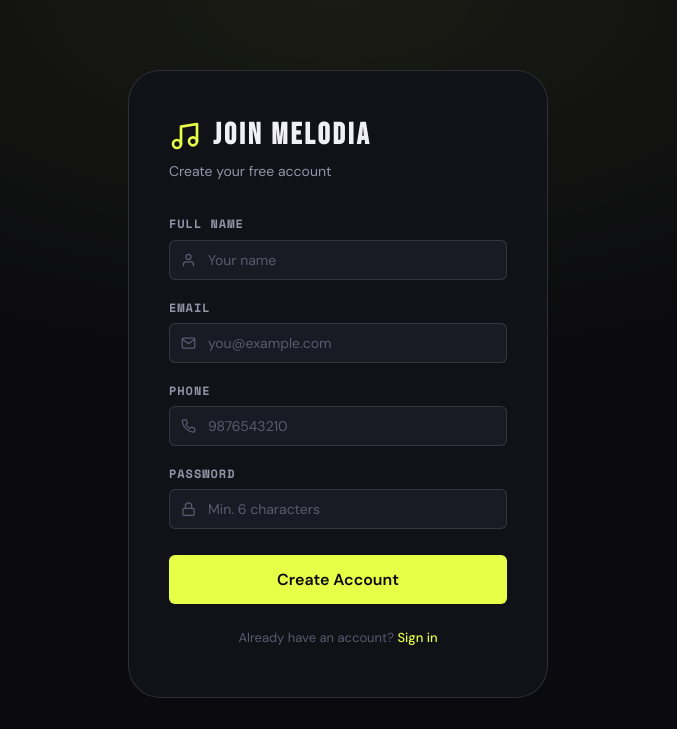
Authentication Flow › Registration › shows phone validation error for invalid number
Type "Test User" into the field named "name". click: (338, 260)
box: [169,240,507,280]
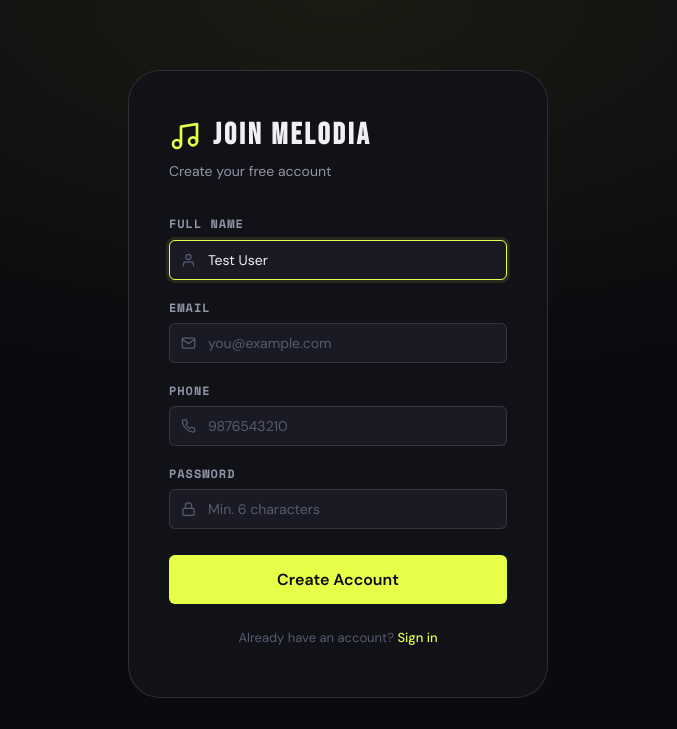
Type "test@example.com" into the field named "email". click: (338, 343)
box: [169,323,507,363]
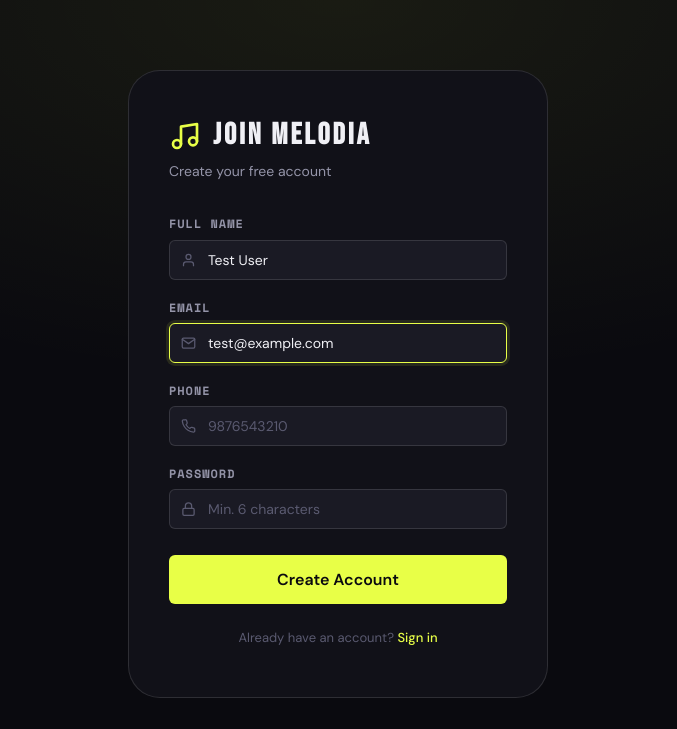
Type "123" into the field named "phone". click: (338, 426)
box: [169,406,507,446]
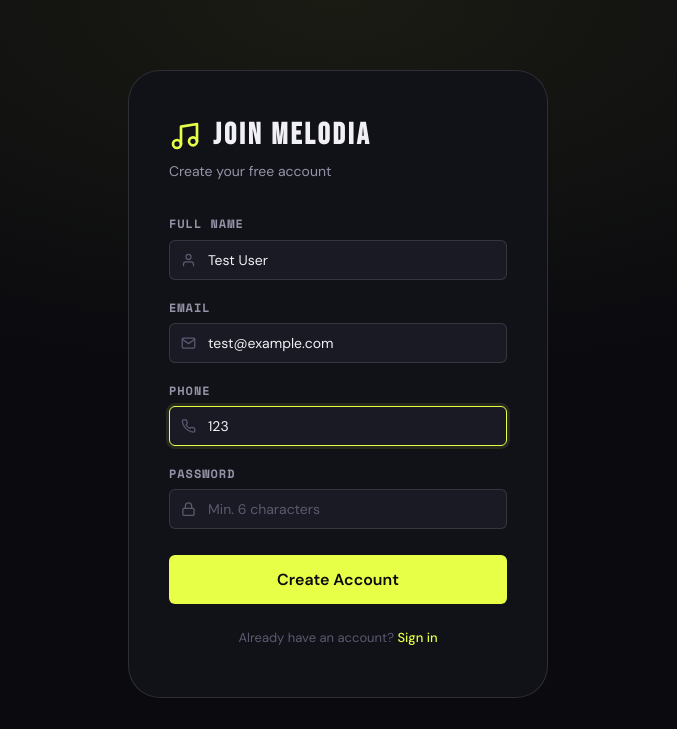
Type "password123" into the password field named "password". click: (338, 509)
box: [169,489,507,529]
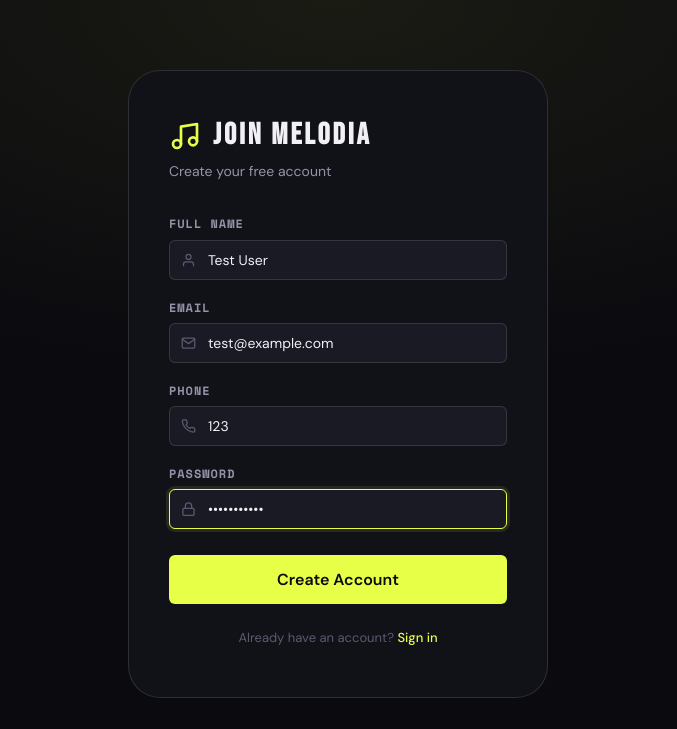
Expected: the submit button is enabled
Click the submit button. click: (338, 580)
box: [169,555,507,604]
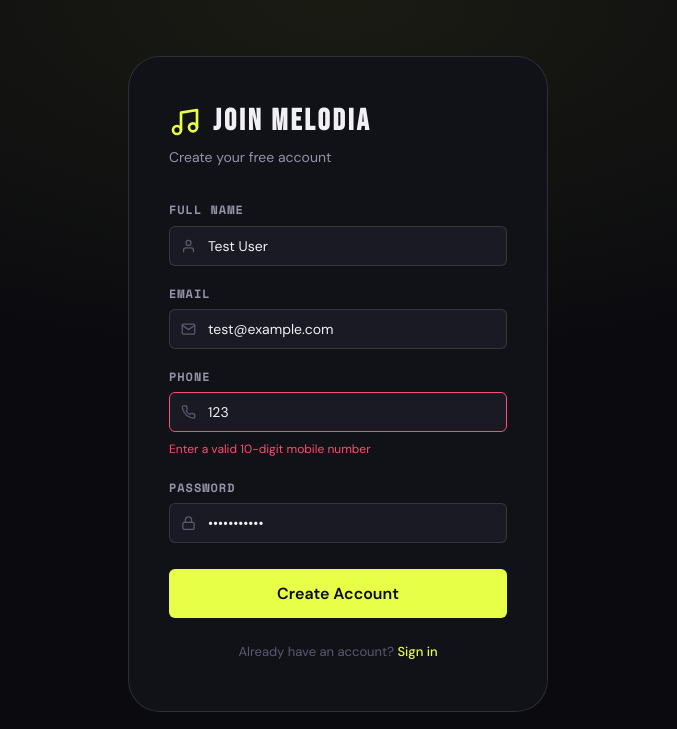
Result: the text "Enter a valid 10-digit mobile number" is shown at [169,441,371,457]
